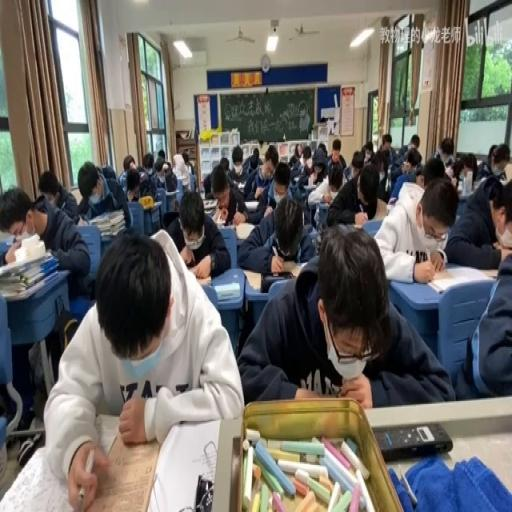calculator: (426, 263, 492, 293), (245, 257, 305, 286), (94, 411, 122, 455), (213, 282, 241, 300), (314, 201, 330, 226), (234, 222, 256, 240), (0, 224, 17, 242), (212, 205, 227, 223), (307, 191, 324, 206), (480, 266, 499, 279), (300, 181, 318, 192), (470, 176, 484, 190), (194, 273, 210, 285), (202, 196, 217, 208), (294, 259, 308, 270), (244, 199, 259, 209), (77, 215, 88, 226), (236, 179, 245, 189), (150, 199, 162, 206), (290, 176, 300, 184), (351, 222, 364, 227)
paper: (46, 223, 242, 511), (237, 224, 448, 406), (2, 183, 88, 296), (376, 174, 456, 280), (237, 185, 317, 270), (443, 171, 511, 270), (162, 186, 230, 280), (78, 160, 133, 230), (326, 158, 382, 226), (302, 145, 330, 188), (228, 145, 253, 186), (451, 152, 478, 186), (154, 156, 178, 192), (422, 155, 446, 185), (402, 146, 422, 178), (326, 141, 346, 169), (371, 148, 390, 176), (367, 196, 389, 219), (126, 170, 140, 200), (438, 138, 453, 161), (264, 152, 278, 174), (182, 151, 194, 175), (101, 161, 117, 179), (142, 152, 154, 174), (362, 141, 374, 162), (488, 144, 498, 168), (257, 138, 269, 158), (381, 134, 392, 154), (122, 154, 134, 170), (352, 158, 363, 173), (408, 134, 418, 150), (317, 142, 326, 158), (219, 155, 229, 169), (505, 160, 512, 180), (288, 155, 298, 168), (302, 150, 310, 164), (294, 144, 302, 158), (157, 149, 164, 161), (162, 162, 168, 174), (251, 155, 258, 164)
person: (374, 420, 451, 460), (194, 474, 214, 509)
